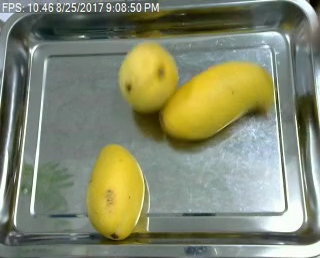Mango: (158, 57, 273, 141), (81, 140, 147, 243), (116, 41, 179, 113)
